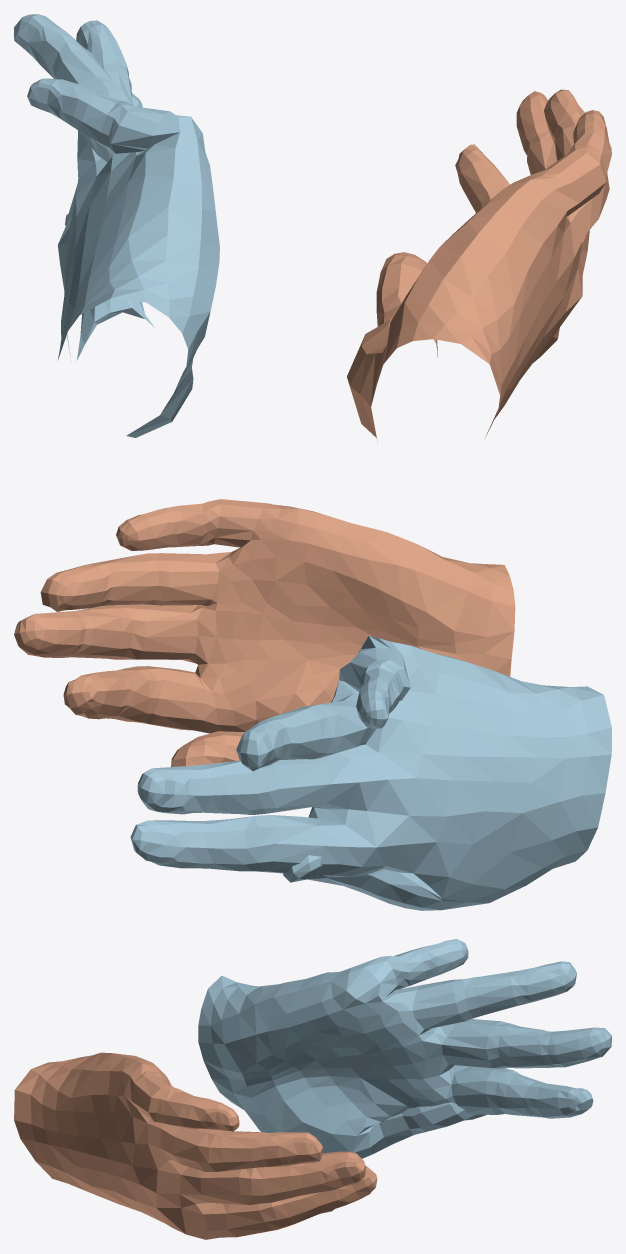
Rendered from frame_059.glb.
3 views of the same model, one above another, from view 1: azimuth 30°, elevation 25°; view 2: azimuth 150°, elevation 25°; view 3: azimuth 270°, elevation 25° (orthographic). The views are drawn at different scales.
Visible parts, largest first — view 1: world; view 2: world; view 3: world.
Boxes of the visible parts, x1,y1,x2,y2 form: world: (14,14,611,443); world: (14,499,611,910); world: (14,939,611,1239).
Bounding box in the file's own units: 0.1921 × 0.0947 × 0.2334.
